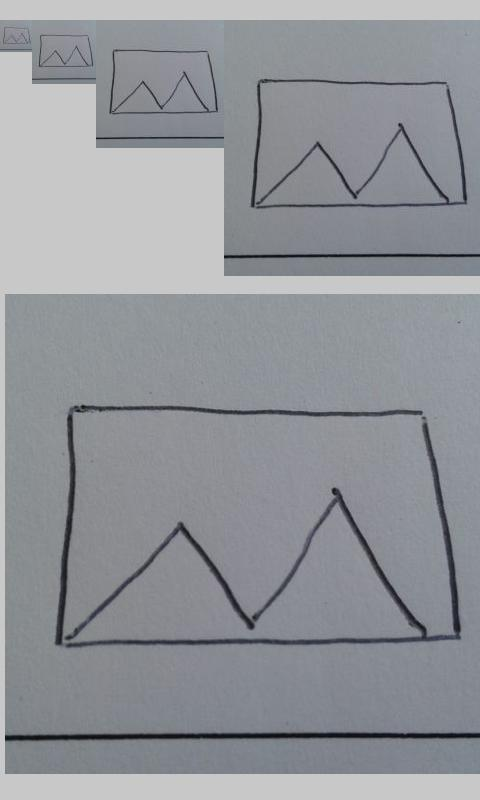image_view: (57, 402, 462, 651), (249, 77, 469, 210), (108, 46, 220, 116), (38, 34, 93, 68), (2, 26, 31, 45)
